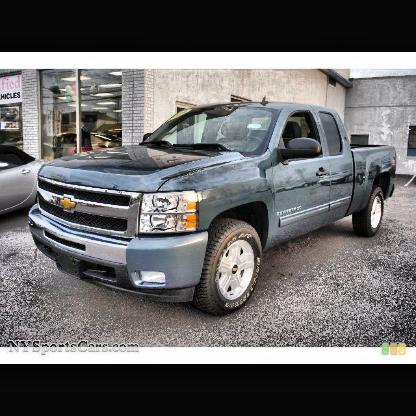Chevrolet Silverado 1500 Extended Cab 2012: (26, 96, 398, 319)
